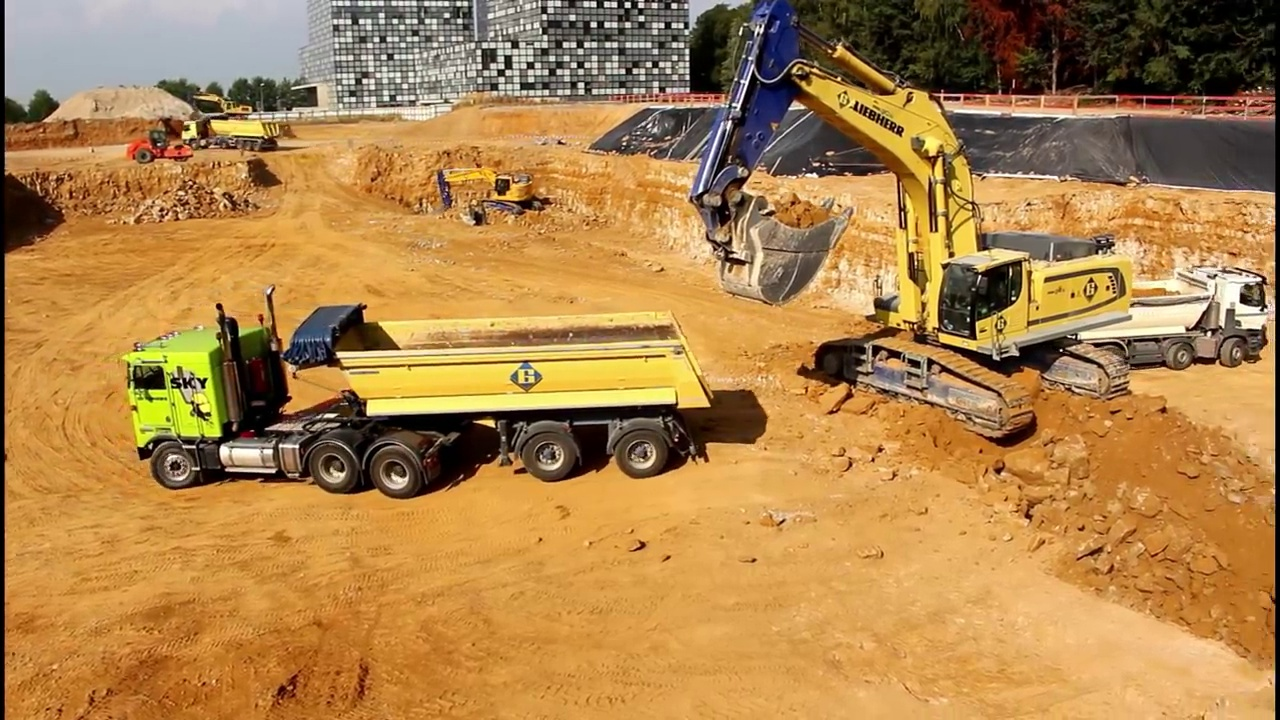compactor: (125, 126, 198, 169)
excavator: (688, 2, 1143, 450), (425, 161, 553, 224), (190, 88, 256, 124)
truck: (116, 279, 719, 503), (983, 258, 1277, 381), (183, 113, 285, 154)
